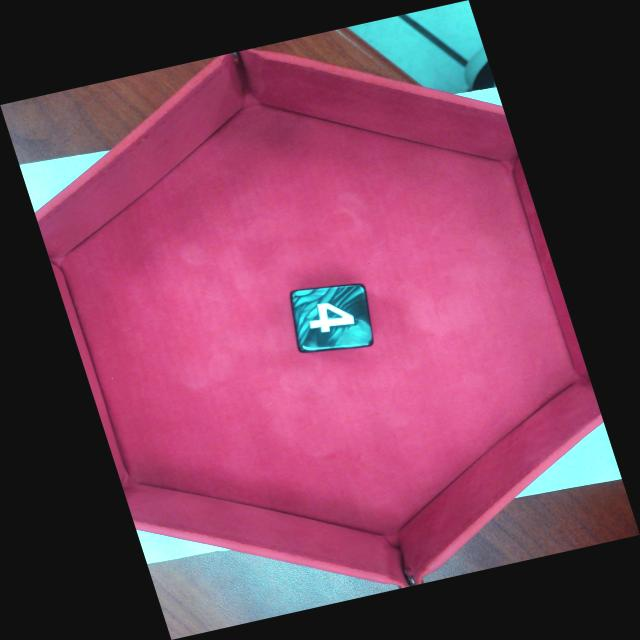dice: (299, 283, 380, 347)
